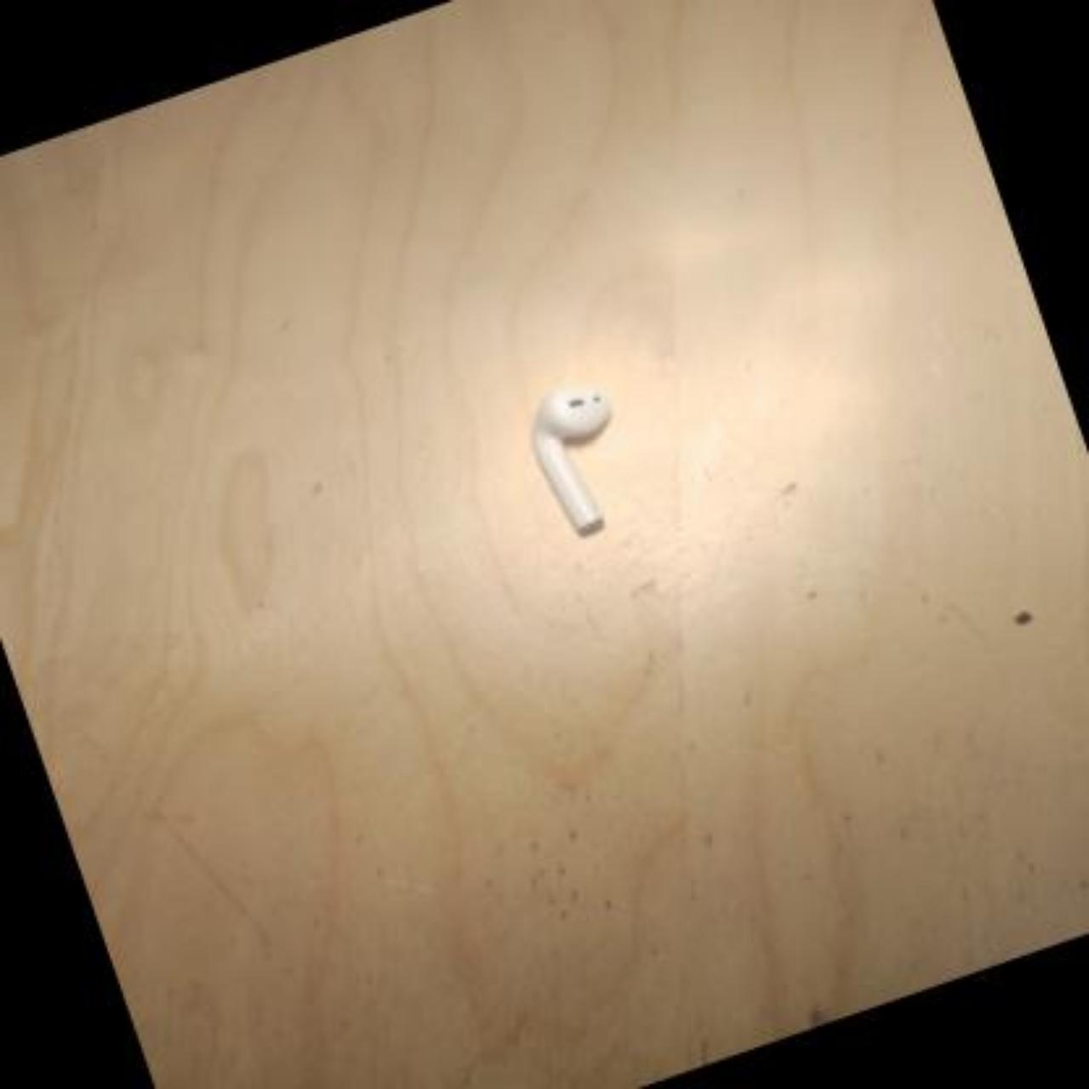Airpods_Units: (516, 375, 657, 553)
